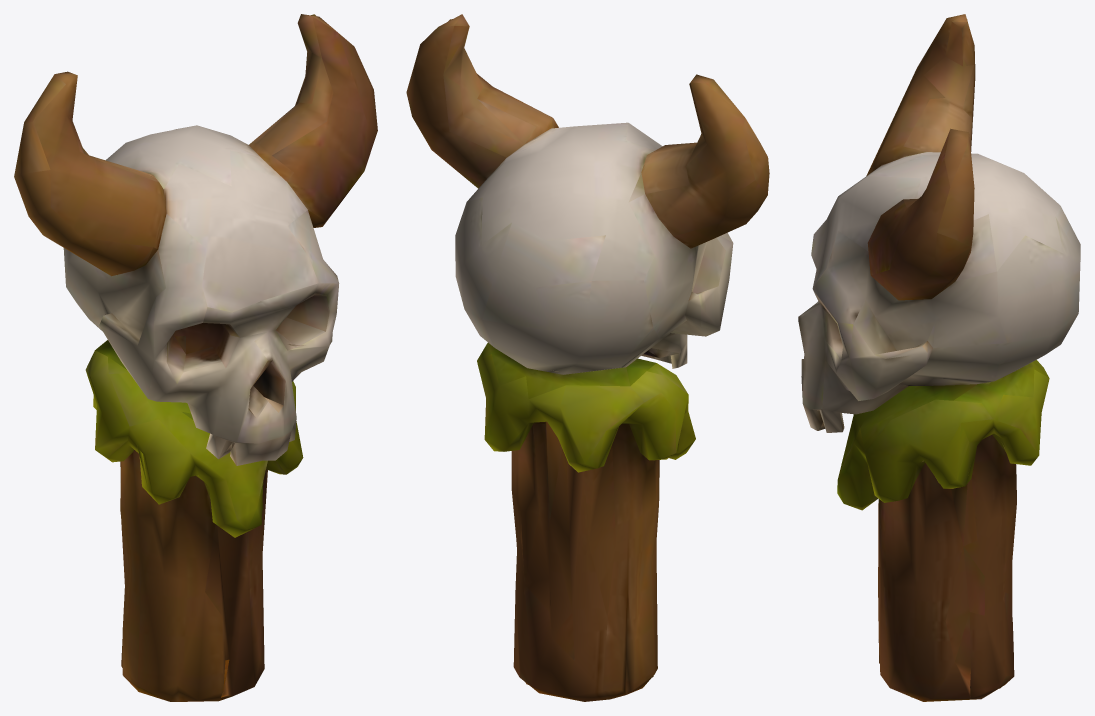
The model's file is lg-swamp-skull-stake.glb.
3 renders of one model, left to right at view 1: azimuth 30°, elevation 25°; view 2: azimuth 150°, elevation 25°; view 3: azimuth 270°, elevation 25°, orthographic. The views are drawn at different scales.
Visible parts, largest first — view 1: geometry_0; view 2: geometry_0; view 3: geometry_0.
Boxes of the visible parts, box(x1,y1,x2,y2) form: geometry_0: box(14, 14, 377, 701); geometry_0: box(406, 14, 769, 701); geometry_0: box(798, 14, 1080, 701).
Size of the model in its own units: 0.5805 by 1 by 0.423.
Materials: 1 (1 with a texture image).
